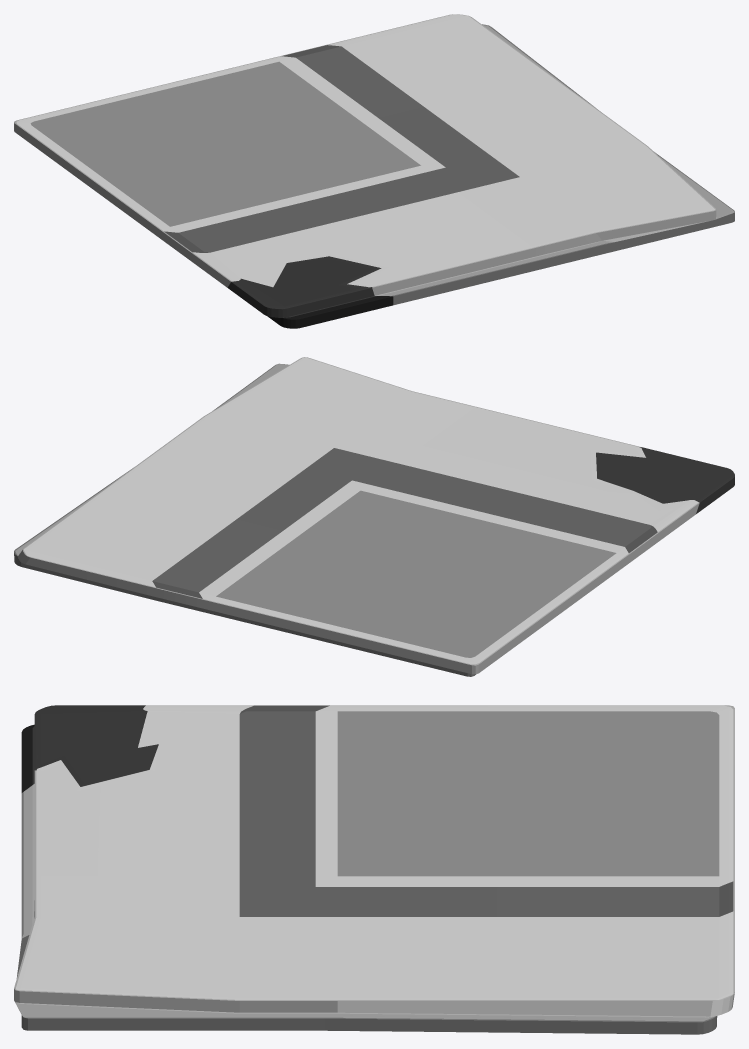
The model's file is StainedClothModel.fbx.
3 renders of one model, top to bottom at view 1: azimuth 30°, elevation 25°; view 2: azimuth 150°, elevation 25°; view 3: azimuth 270°, elevation 25°, orthographic. The views are drawn at different scales.
Visible parts, largest first — view 1: StainedClothModel; view 2: StainedClothModel; view 3: StainedClothModel.
Boxes of the visible parts, box(x1,y1,x2,y2) form: StainedClothModel: box(14, 14, 734, 328); StainedClothModel: box(14, 357, 734, 676); StainedClothModel: box(14, 705, 734, 1034).
Bounding box in the file's own units: 33.43 × 1.31 × 33.37.
